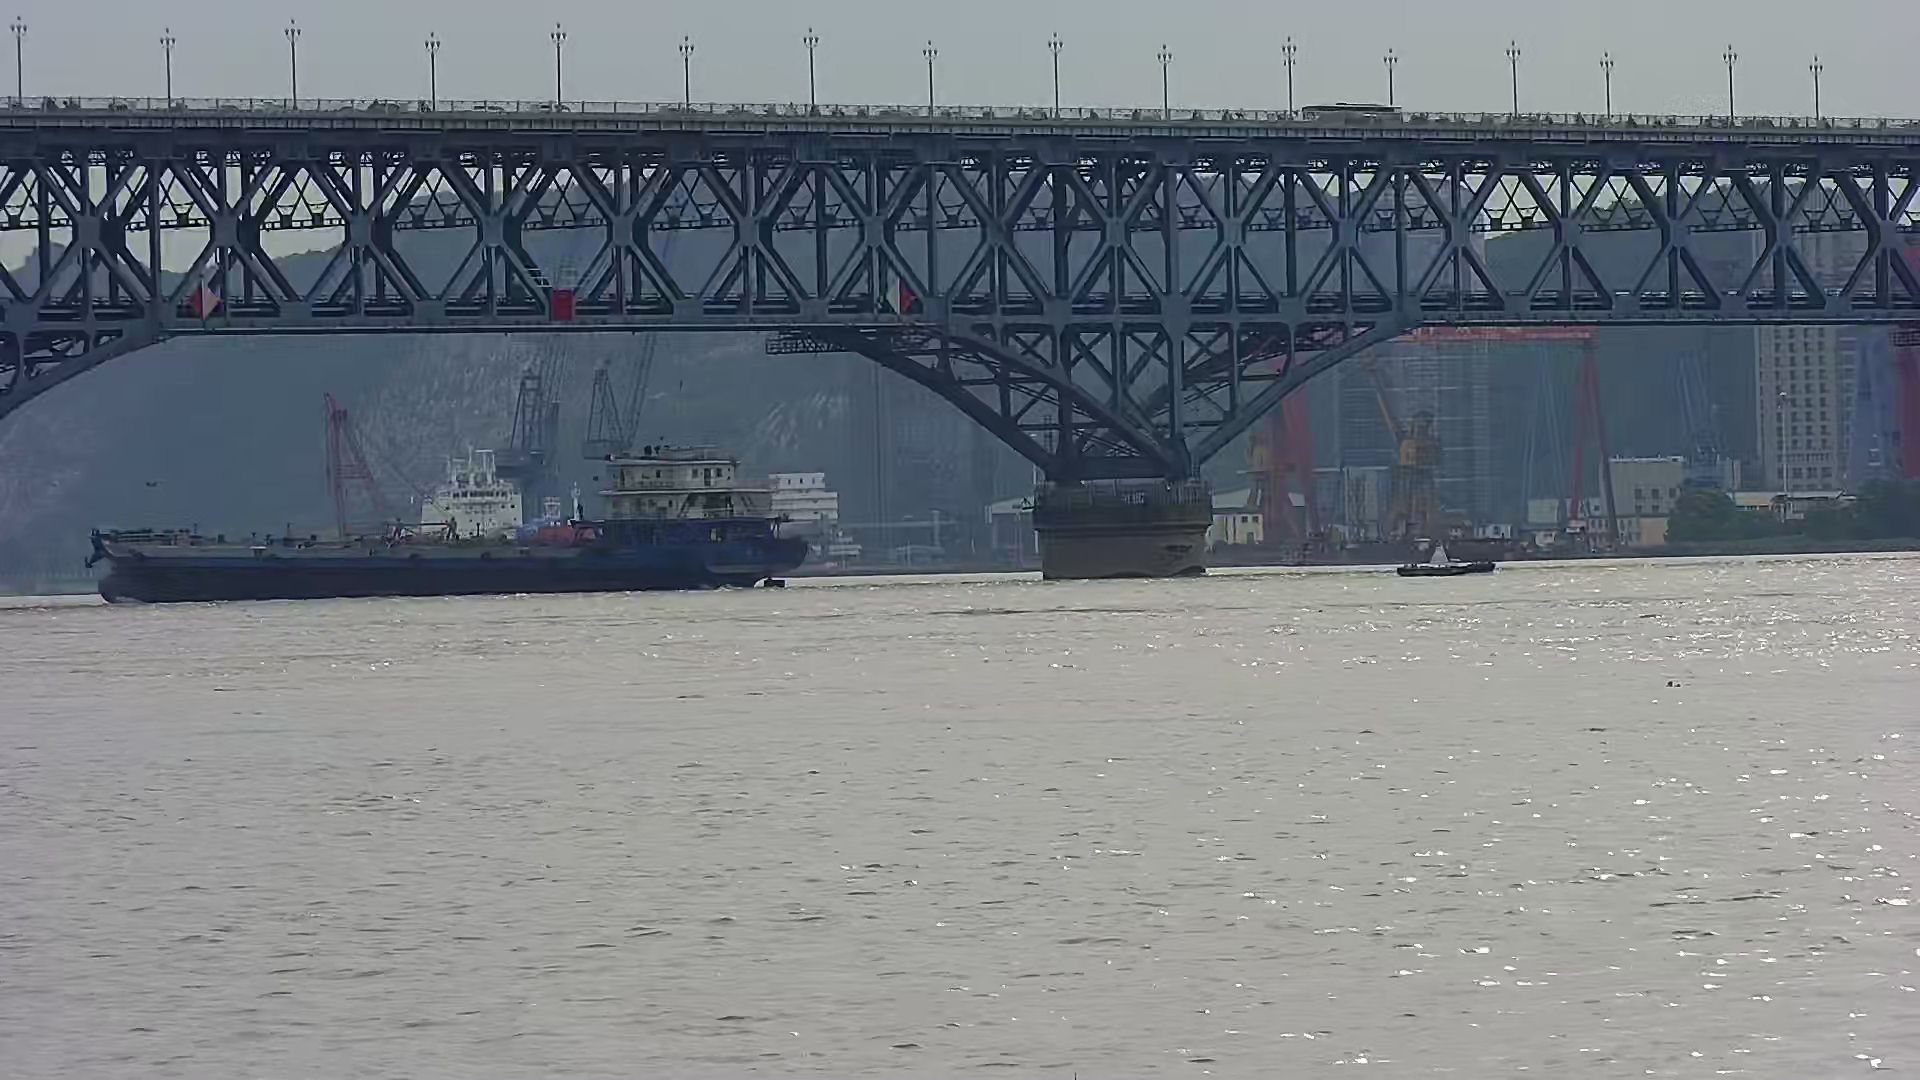boat: (1382, 522, 1502, 588)
bridge: (1, 9, 1920, 591)
ship: (84, 430, 812, 592)
